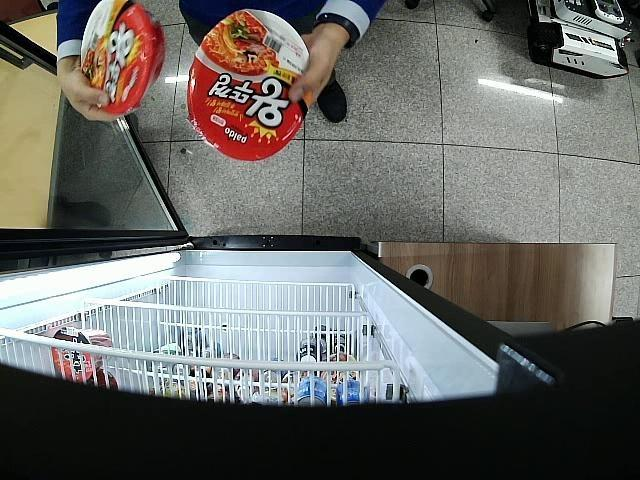10_wangTtukkeong: (188, 9, 310, 162), (81, 0, 166, 115)
